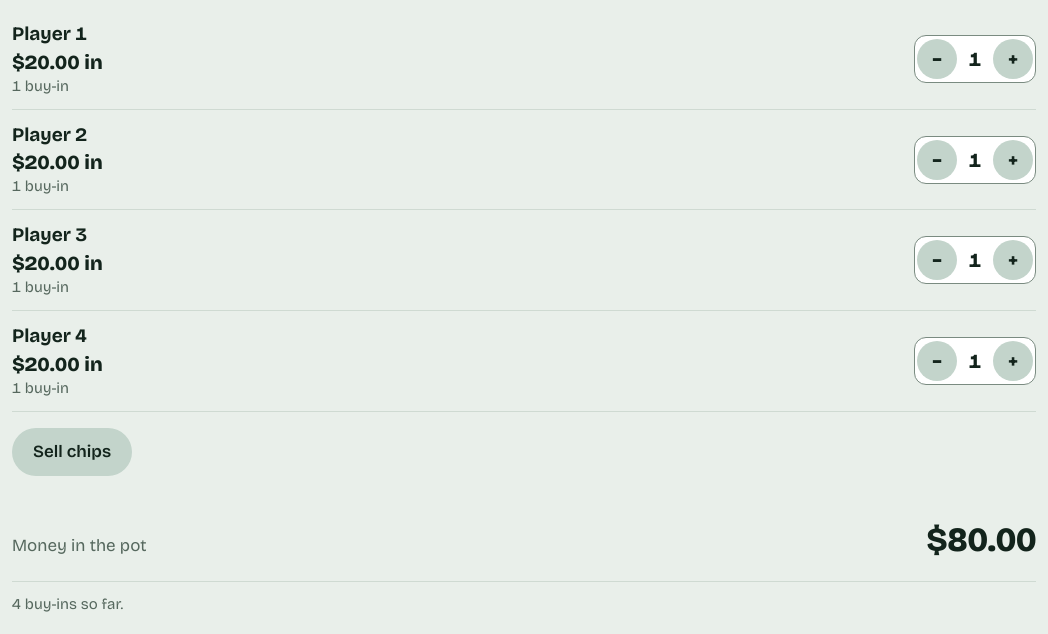
Test: SPEC-0004: the Sell chips form › explains in text, and records nothing, when the amount is empty or the players are the same
Click the button "Sell chips": click(72, 452) x1=12 y1=428 x2=132 y2=476
(page scrolled)
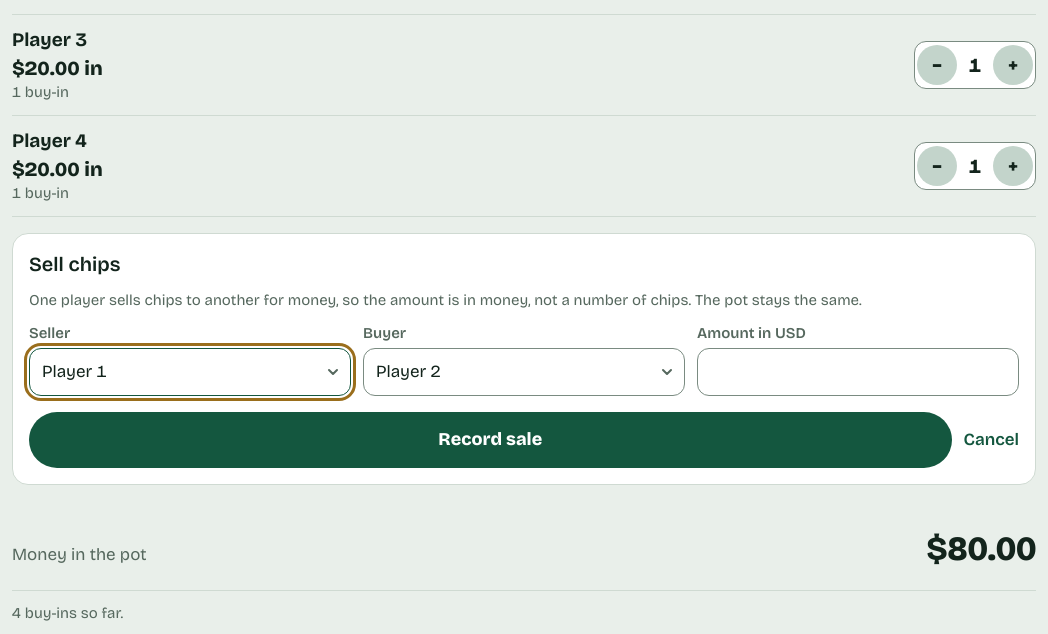
Click the button "Record sale": click(490, 440) x1=29 y1=412 x2=952 y2=468
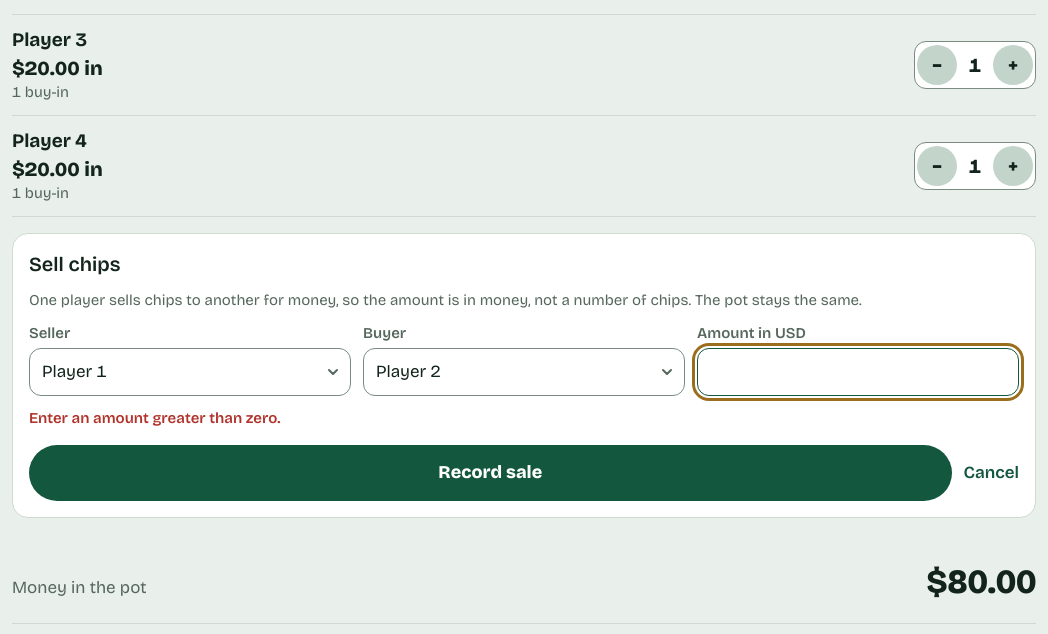
Result: the message reads "Enter an amount greater than zero." at x1=29 y1=409 x2=280 y2=427
In the field labelled "Amount in USD": (858, 372) x1=697 y1=348 x2=1019 y2=396, type "5"
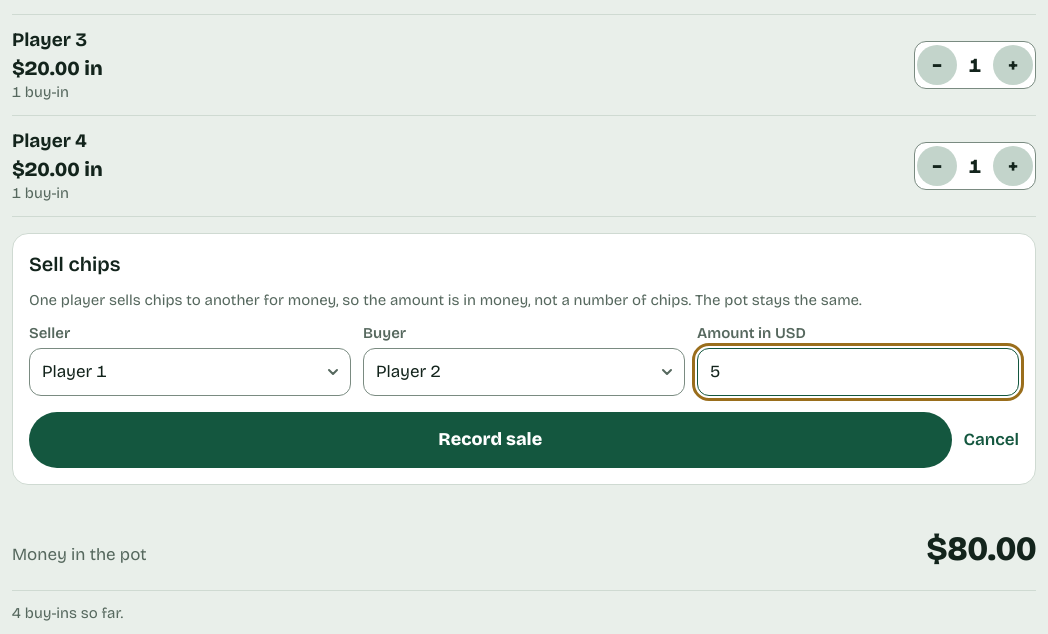
Result: the message "Enter an amount greater than zero." is gone
Select "Player 1" in the dropdown labelled "Buyer": (524, 372) x1=363 y1=348 x2=685 y2=396
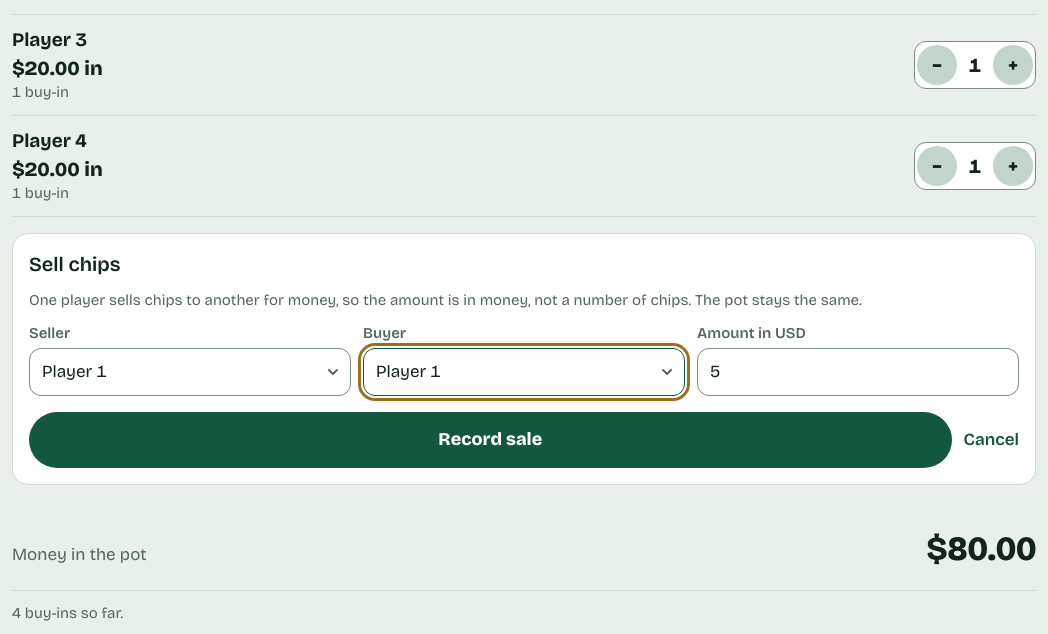
Click the button "Record sale": click(490, 440) x1=29 y1=412 x2=952 y2=468
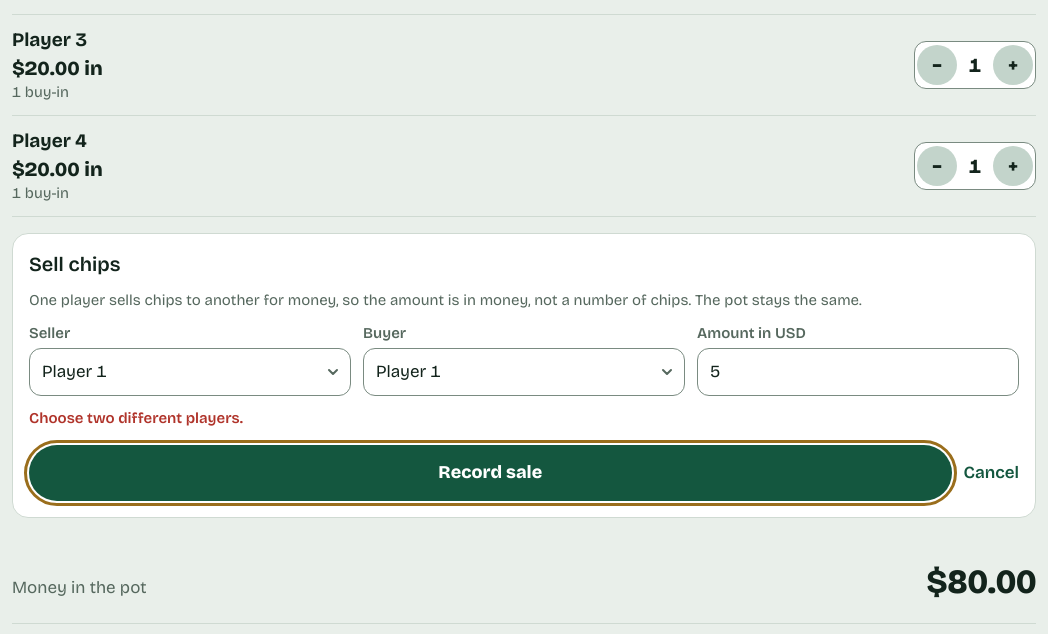
Result: the message reads "Choose two different players." at x1=29 y1=409 x2=243 y2=427
